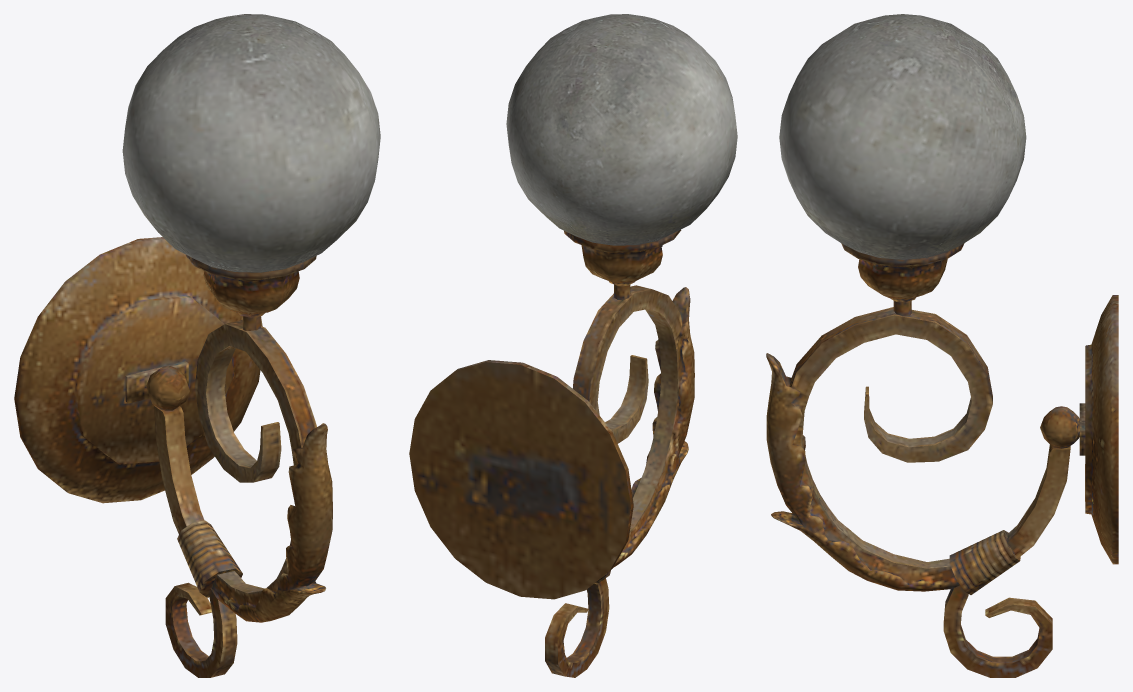
The model's file is sm0003_wall_light.fbx.
3 views of the same model, side by side, from view 1: azimuth 30°, elevation 25°; view 2: azimuth 150°, elevation 25°; view 3: azimuth 270°, elevation 25° (orthographic). The views are drawn at different scales.
Parts seen in each view (by area): view 1: LOD_1_Group_0_Sub_1__sm0003_wall_light_C_Mat, LOD_1_Group_0_Sub_2__sm0003_wall_light_A_Mat; view 2: LOD_1_Group_0_Sub_1__sm0003_wall_light_C_Mat, LOD_1_Group_0_Sub_2__sm0003_wall_light_A_Mat; view 3: LOD_1_Group_0_Sub_2__sm0003_wall_light_A_Mat, LOD_1_Group_0_Sub_1__sm0003_wall_light_C_Mat.
Part boxes in pixels (left/top/right/bottom): LOD_1_Group_0_Sub_1__sm0003_wall_light_C_Mat: left=14, top=237, right=332, bottom=677; LOD_1_Group_0_Sub_2__sm0003_wall_light_A_Mat: left=122, top=14, right=380, bottom=272; LOD_1_Group_0_Sub_1__sm0003_wall_light_C_Mat: left=409, top=229, right=694, bottom=677; LOD_1_Group_0_Sub_2__sm0003_wall_light_A_Mat: left=506, top=14, right=737, bottom=245; LOD_1_Group_0_Sub_2__sm0003_wall_light_A_Mat: left=779, top=14, right=1026, bottom=259; LOD_1_Group_0_Sub_1__sm0003_wall_light_C_Mat: left=766, top=243, right=1118, bottom=677.
Size of the model in its own units: 34.04 by 89.91 by 44.24.
